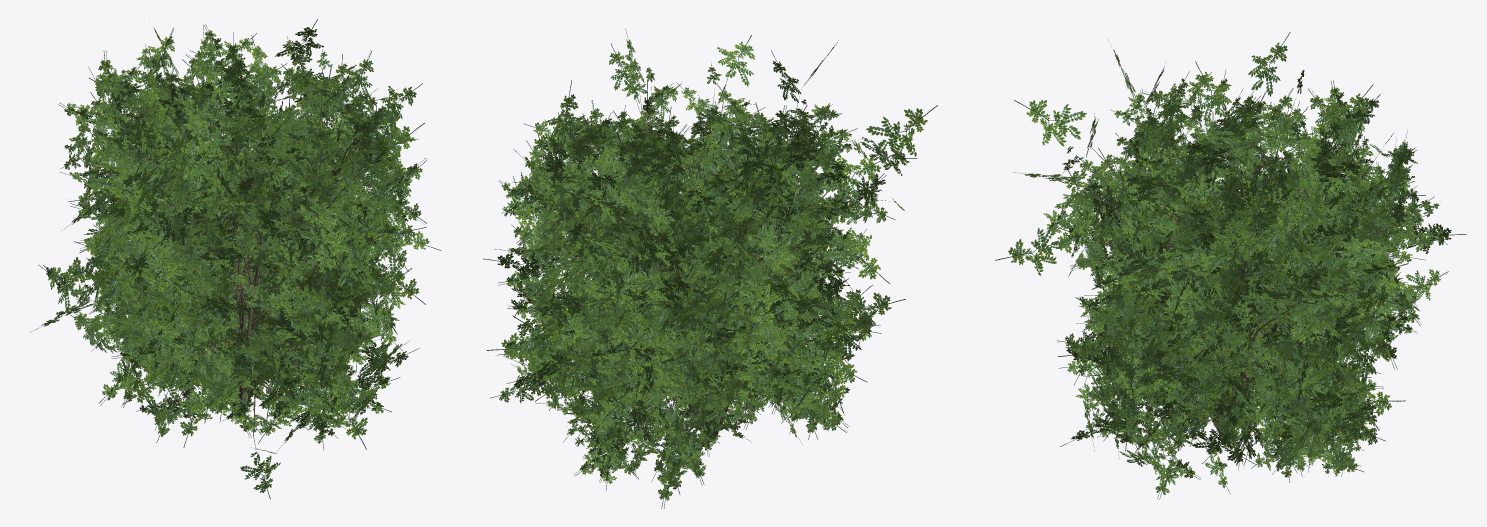
File: bushes.glb
The picture shows the model from 3 angles, left to right: view 1: azimuth 30°, elevation 25°; view 2: azimuth 150°, elevation 25°; view 3: azimuth 270°, elevation 25°; orthographic projection. The views are drawn at different scales.
Visible parts, largest first — view 1: bush0_far_leaves, bush0_leaves, bush2_leaves, bush1_leaves, bush2_far_leaves, bush1_far_leaves, bush0_far_bark, bush1_bark, bush1_far_bark, bush2_bark, bush2_far_bark, bush0_bark; view 2: bush0_far_leaves, bush2_leaves, bush0_leaves, bush1_leaves, bush1_far_leaves, bush2_far_leaves, bush1_far_bark, bush1_bark; view 3: bush2_far_leaves, bush2_leaves, bush0_leaves, bush1_leaves, bush0_far_leaves, bush1_far_leaves, bush1_far_bark, bush2_bark, bush2_far_bark, bush1_bark.
Boxes of the visible parts, x1,y1,x2,y2 form: bush0_far_leaves: (30, 51, 426, 499); bush0_leaves: (70, 49, 412, 443); bush2_leaves: (68, 61, 427, 442); bush1_leaves: (58, 24, 402, 295); bush2_far_leaves: (62, 25, 441, 452); bush1_far_leaves: (60, 19, 422, 304); bush0_far_bark: (82, 94, 375, 451); bush1_bark: (76, 75, 370, 366); bush1_far_bark: (120, 63, 375, 392); bush2_bark: (114, 100, 395, 406); bush2_far_bark: (103, 99, 379, 414); bush0_bark: (94, 112, 388, 414); bush0_far_leaves: (486, 82, 905, 482); bush2_leaves: (497, 110, 895, 508); bush0_leaves: (529, 100, 848, 446); bush1_leaves: (516, 43, 857, 312); bush1_far_leaves: (523, 28, 937, 312); bush2_far_leaves: (483, 118, 872, 457); bush1_far_bark: (561, 80, 893, 425); bush1_bark: (556, 86, 820, 426); bush2_far_leaves: (1045, 109, 1428, 494); bush2_leaves: (1075, 88, 1399, 482); bush0_leaves: (1057, 106, 1448, 499); bush1_leaves: (1043, 72, 1447, 331); bush0_far_leaves: (1057, 97, 1466, 473); bush1_far_leaves: (995, 32, 1417, 304); bush1_far_bark: (1069, 99, 1379, 386); bush2_bark: (1121, 132, 1372, 453); bush2_far_bark: (1081, 168, 1356, 458); bush1_bark: (1071, 97, 1419, 438).
Size of the model in its own units: 1.94 by 1.95 by 2.02.
2 materials, 2 textured.
